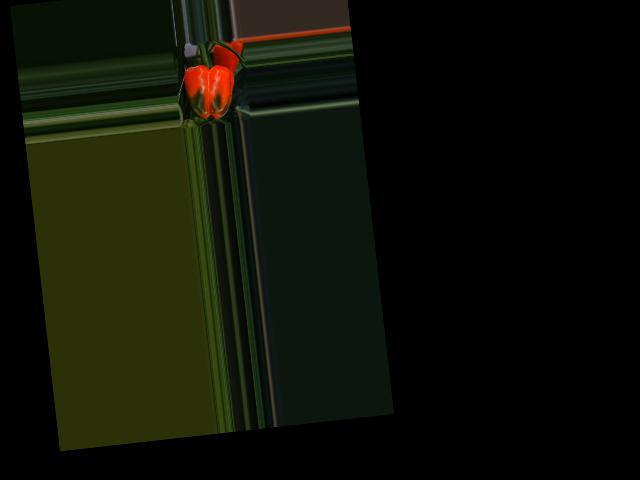bell_pepper: (175, 55, 241, 126)
